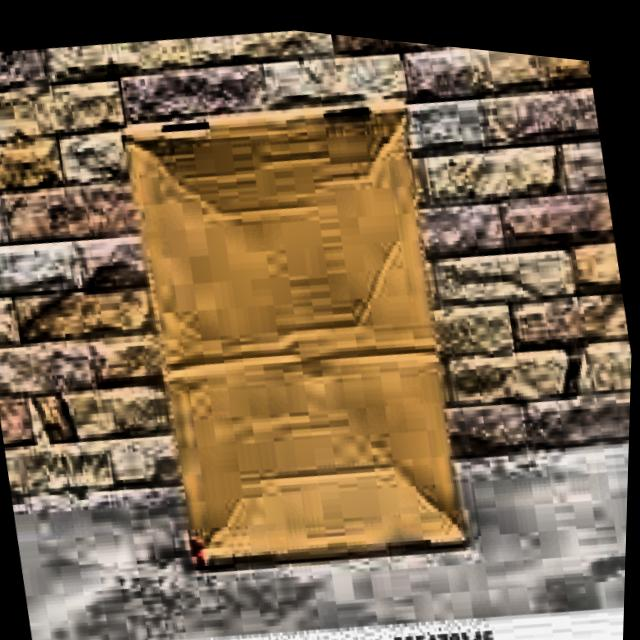Cardbox: (92, 55, 500, 606)
